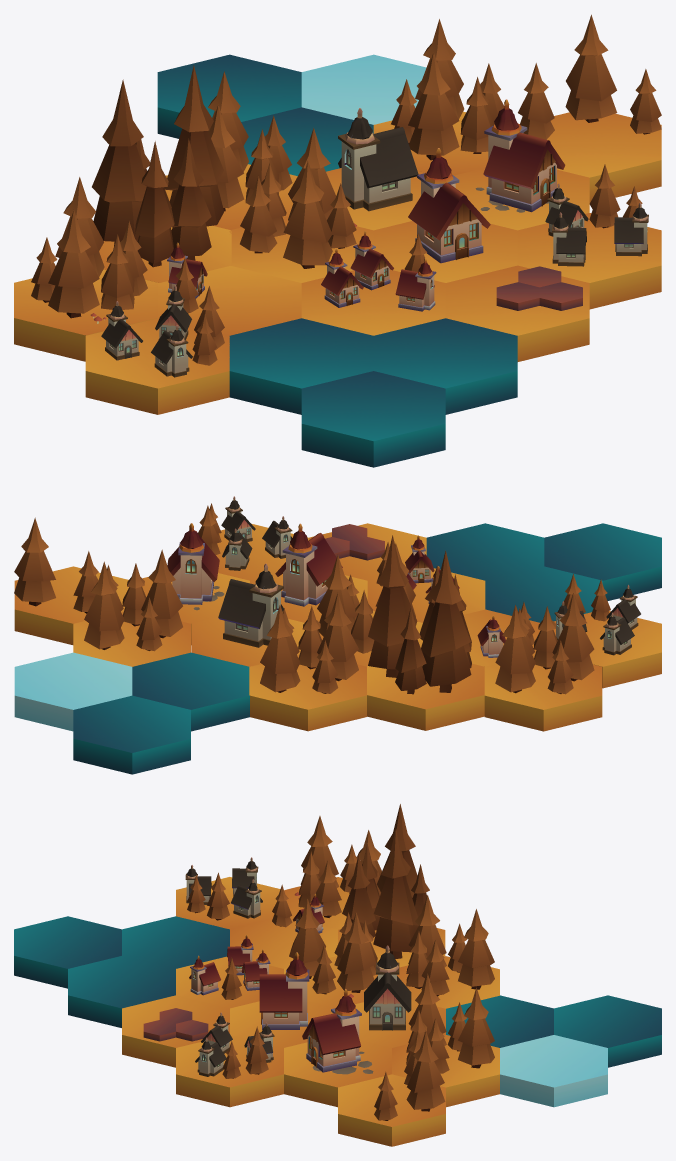
Rendered from AutumnMap.fbx.
The picture shows the model from 3 angles, top to bottom: view 1: azimuth 30°, elevation 25°; view 2: azimuth 150°, elevation 25°; view 3: azimuth 270°, elevation 25°; orthographic projection. The views are drawn at different scales.
Visible parts, largest first — view 1: rest.001, leafs.001, water.001, whey.001; view 2: rest.001, leafs.001, water.001, whey.001; view 3: rest.001, leafs.001, water.001, whey.001.
Part boxes in pixels (<box>): rest.001: <box>14,54,661,414</box>; leafs.001: <box>31,14,661,365</box>; water.001: <box>157,54,517,467</box>; whey.001: <box>496,266,582,310</box>; rest.001: <box>14,496,661,731</box>; leafs.001: <box>14,503,610,694</box>; water.001: <box>73,523,661,774</box>; whey.001: <box>325,524,384,560</box>; rest.001: <box>122,857,607,1146</box>; leafs.001: <box>187,804,494,1120</box>; water.001: <box>14,916,661,1067</box>; whey.001: <box>143,1008,208,1041</box>.
Size of the model in its own units: 543 by 150 by 594.
